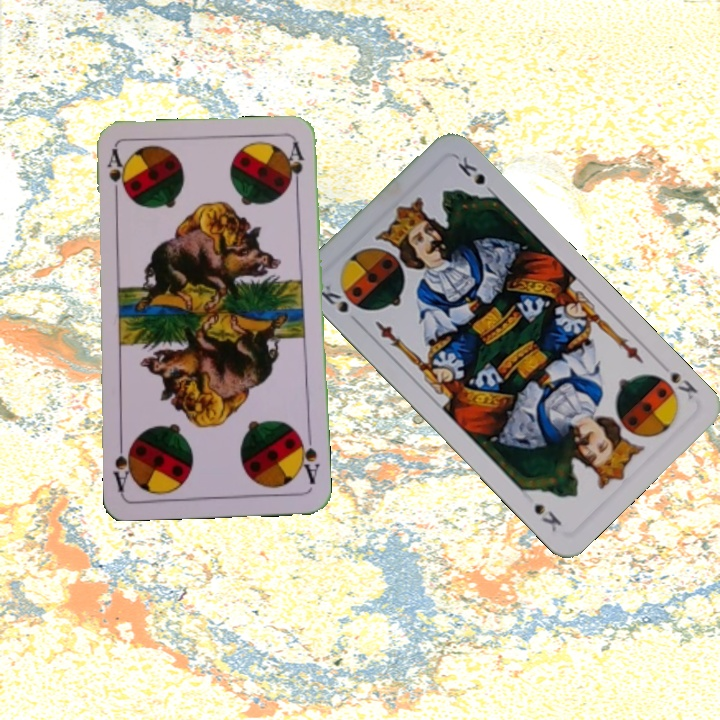SA: (294, 429, 322, 487), (103, 145, 128, 204)
SK: (315, 279, 363, 328), (666, 367, 701, 402)
